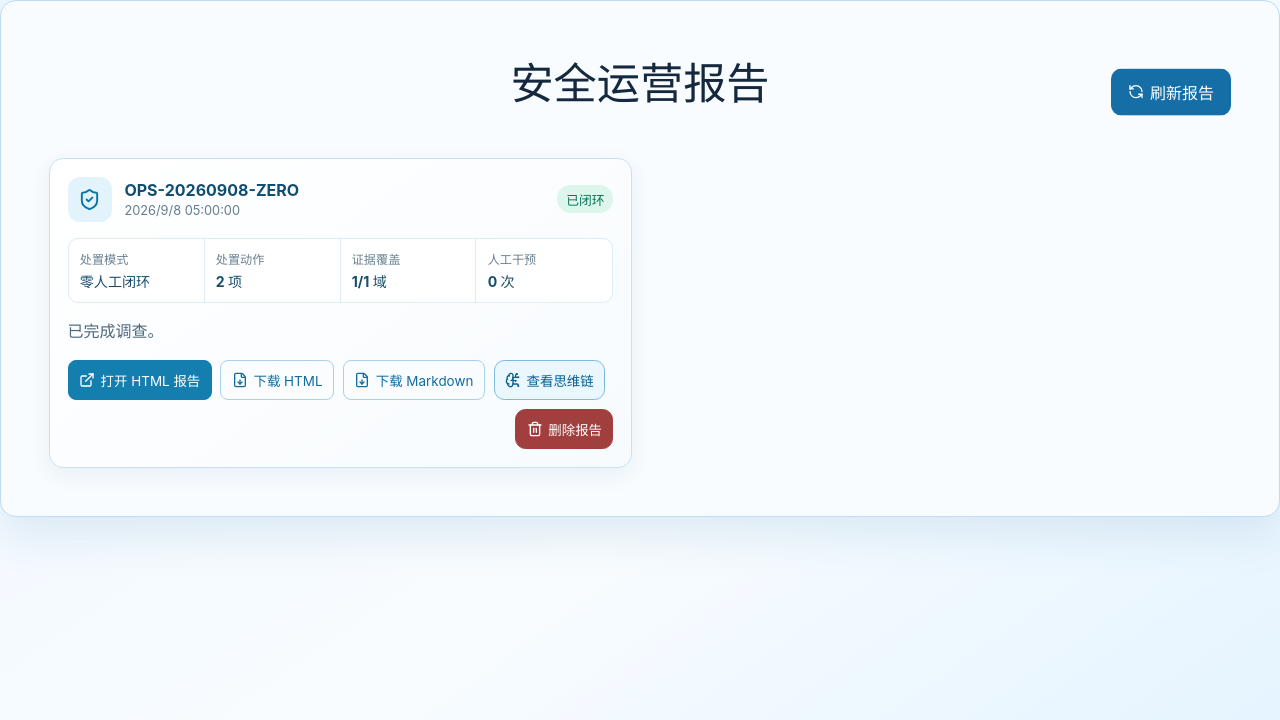
OperationsReportPage › opens the public structured reasoning timeline from a report card
Click the button "查看思维链": (549,380) [494, 360, 605, 400]
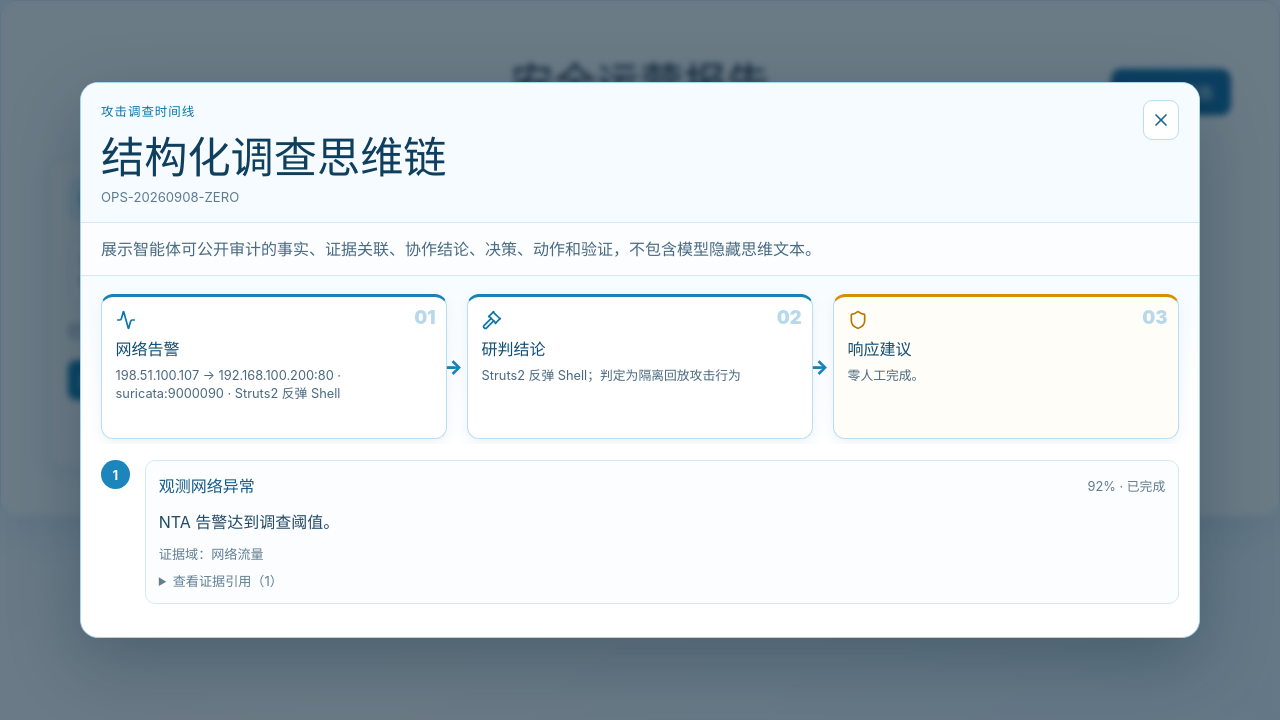
Check: the dialog "结构化调查思维链" is shown
Check: the list named "动态攻击调查链" is shown, box [101, 294, 1179, 439]
Check: the text "网络告警" is shown, box [116, 340, 180, 360]
Click the button named "关闭思维链": (1161,120) [1143, 100, 1179, 140]
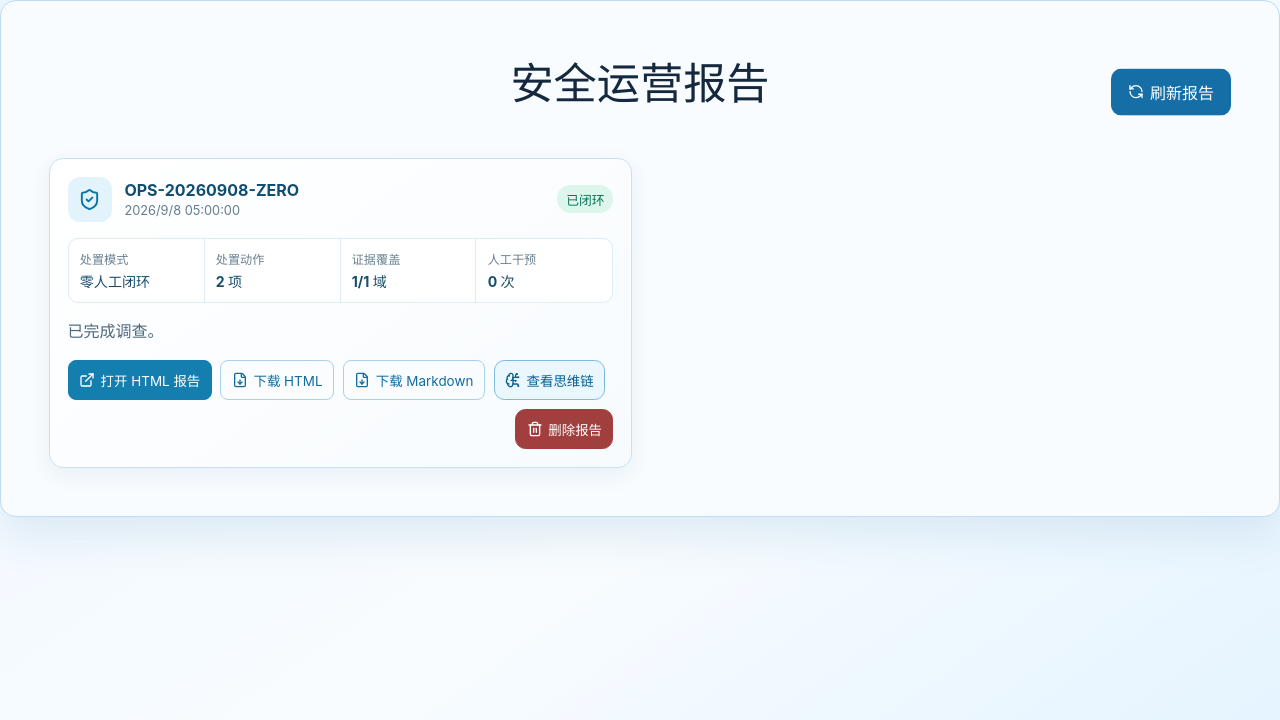
Check: the dialog is gone
